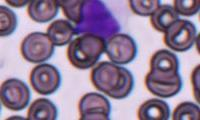L: (74, 0, 125, 41)
